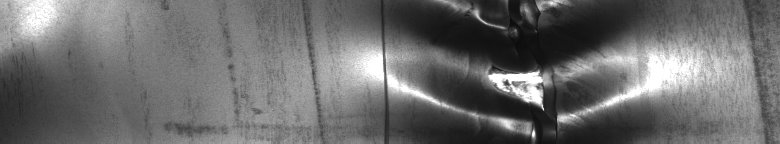ke: (380, 4, 641, 136)
